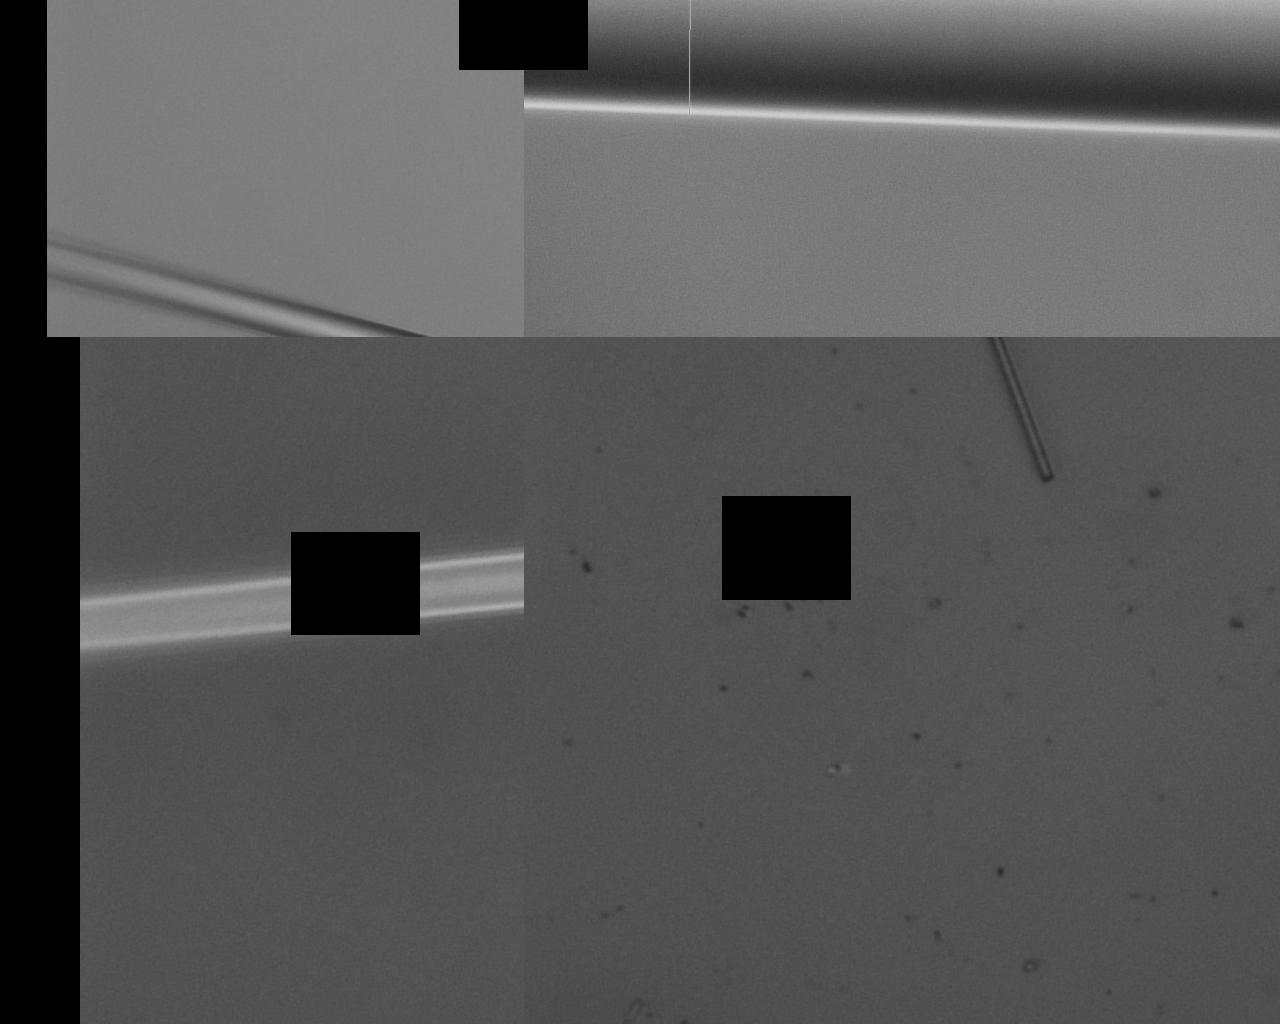fiber: (422, 423, 1158, 624), (947, 624, 1244, 1024), (0, 305, 422, 375), (113, 788, 422, 856)
